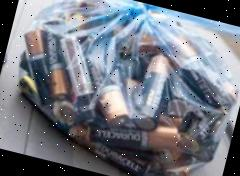electronic: (68, 52, 142, 132), (11, 19, 70, 108), (30, 25, 90, 105), (128, 47, 176, 137)
